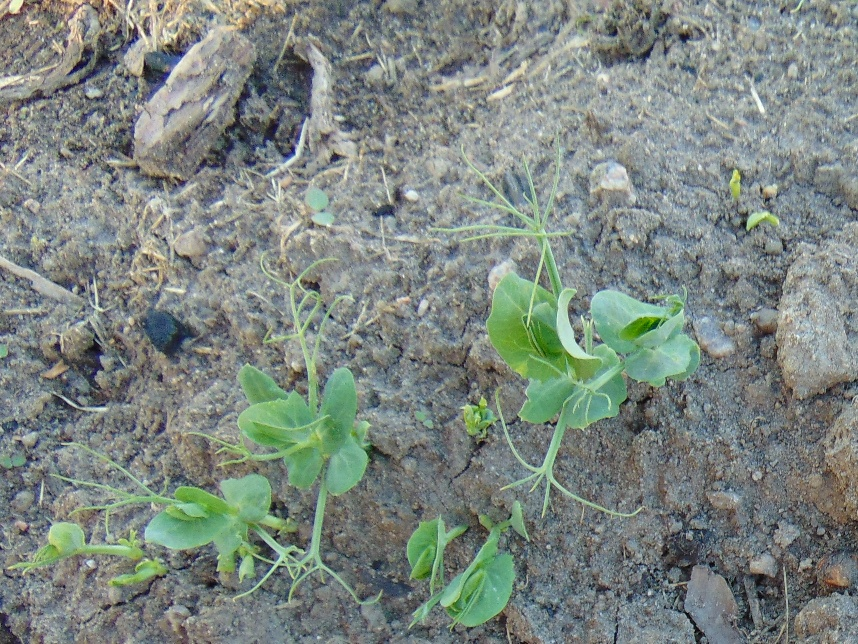crop: (447, 171, 706, 510), (206, 252, 387, 610), (85, 453, 301, 566), (401, 501, 533, 630), (6, 508, 164, 590), (733, 167, 781, 230)
